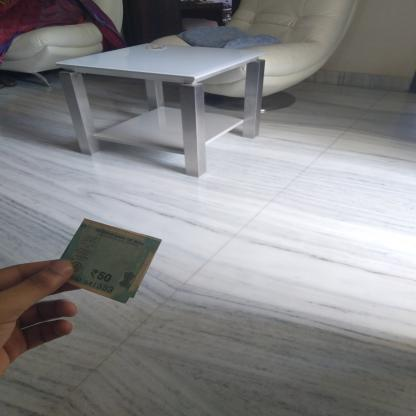New50Front: (53, 219, 150, 300)
